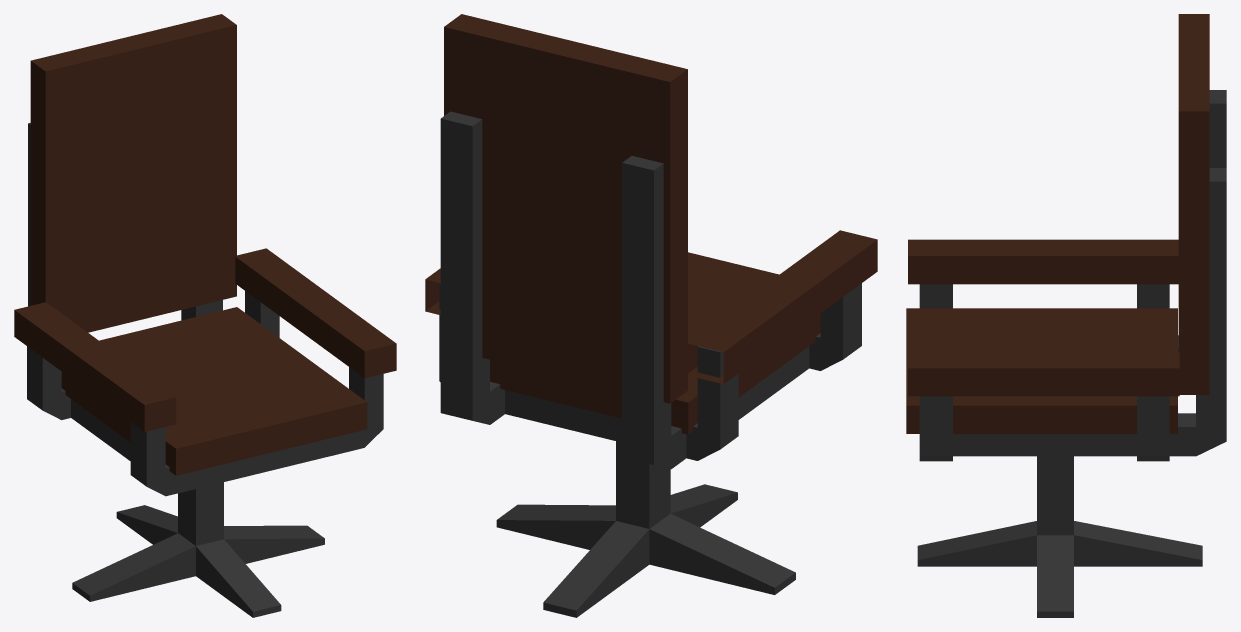
The model's file is AdvancedChairBrown.fbx.
The picture shows the model from 3 angles, left to right: view 1: azimuth 30°, elevation 25°; view 2: azimuth 150°, elevation 25°; view 3: azimuth 270°, elevation 25°; orthographic projection. The views are drawn at different scales.
Visible parts, largest first — view 1: Cube.002, Cube.001; view 2: Cube.002, Cube.001; view 3: Cube.002, Cube.001.
Part boxes in pixels (left/top/right/bottom): Cube.002: left=14, top=14, right=396, bottom=475; Cube.001: left=27, top=123, right=383, bottom=617; Cube.002: left=425, top=14, right=877, bottom=434; Cube.001: left=439, top=111, right=861, bottom=617; Cube.002: left=906, top=14, right=1209, bottom=433; Cube.001: left=917, top=90, right=1226, bottom=617.
Bounding box in the file's own units: 374 × 674 × 395.
